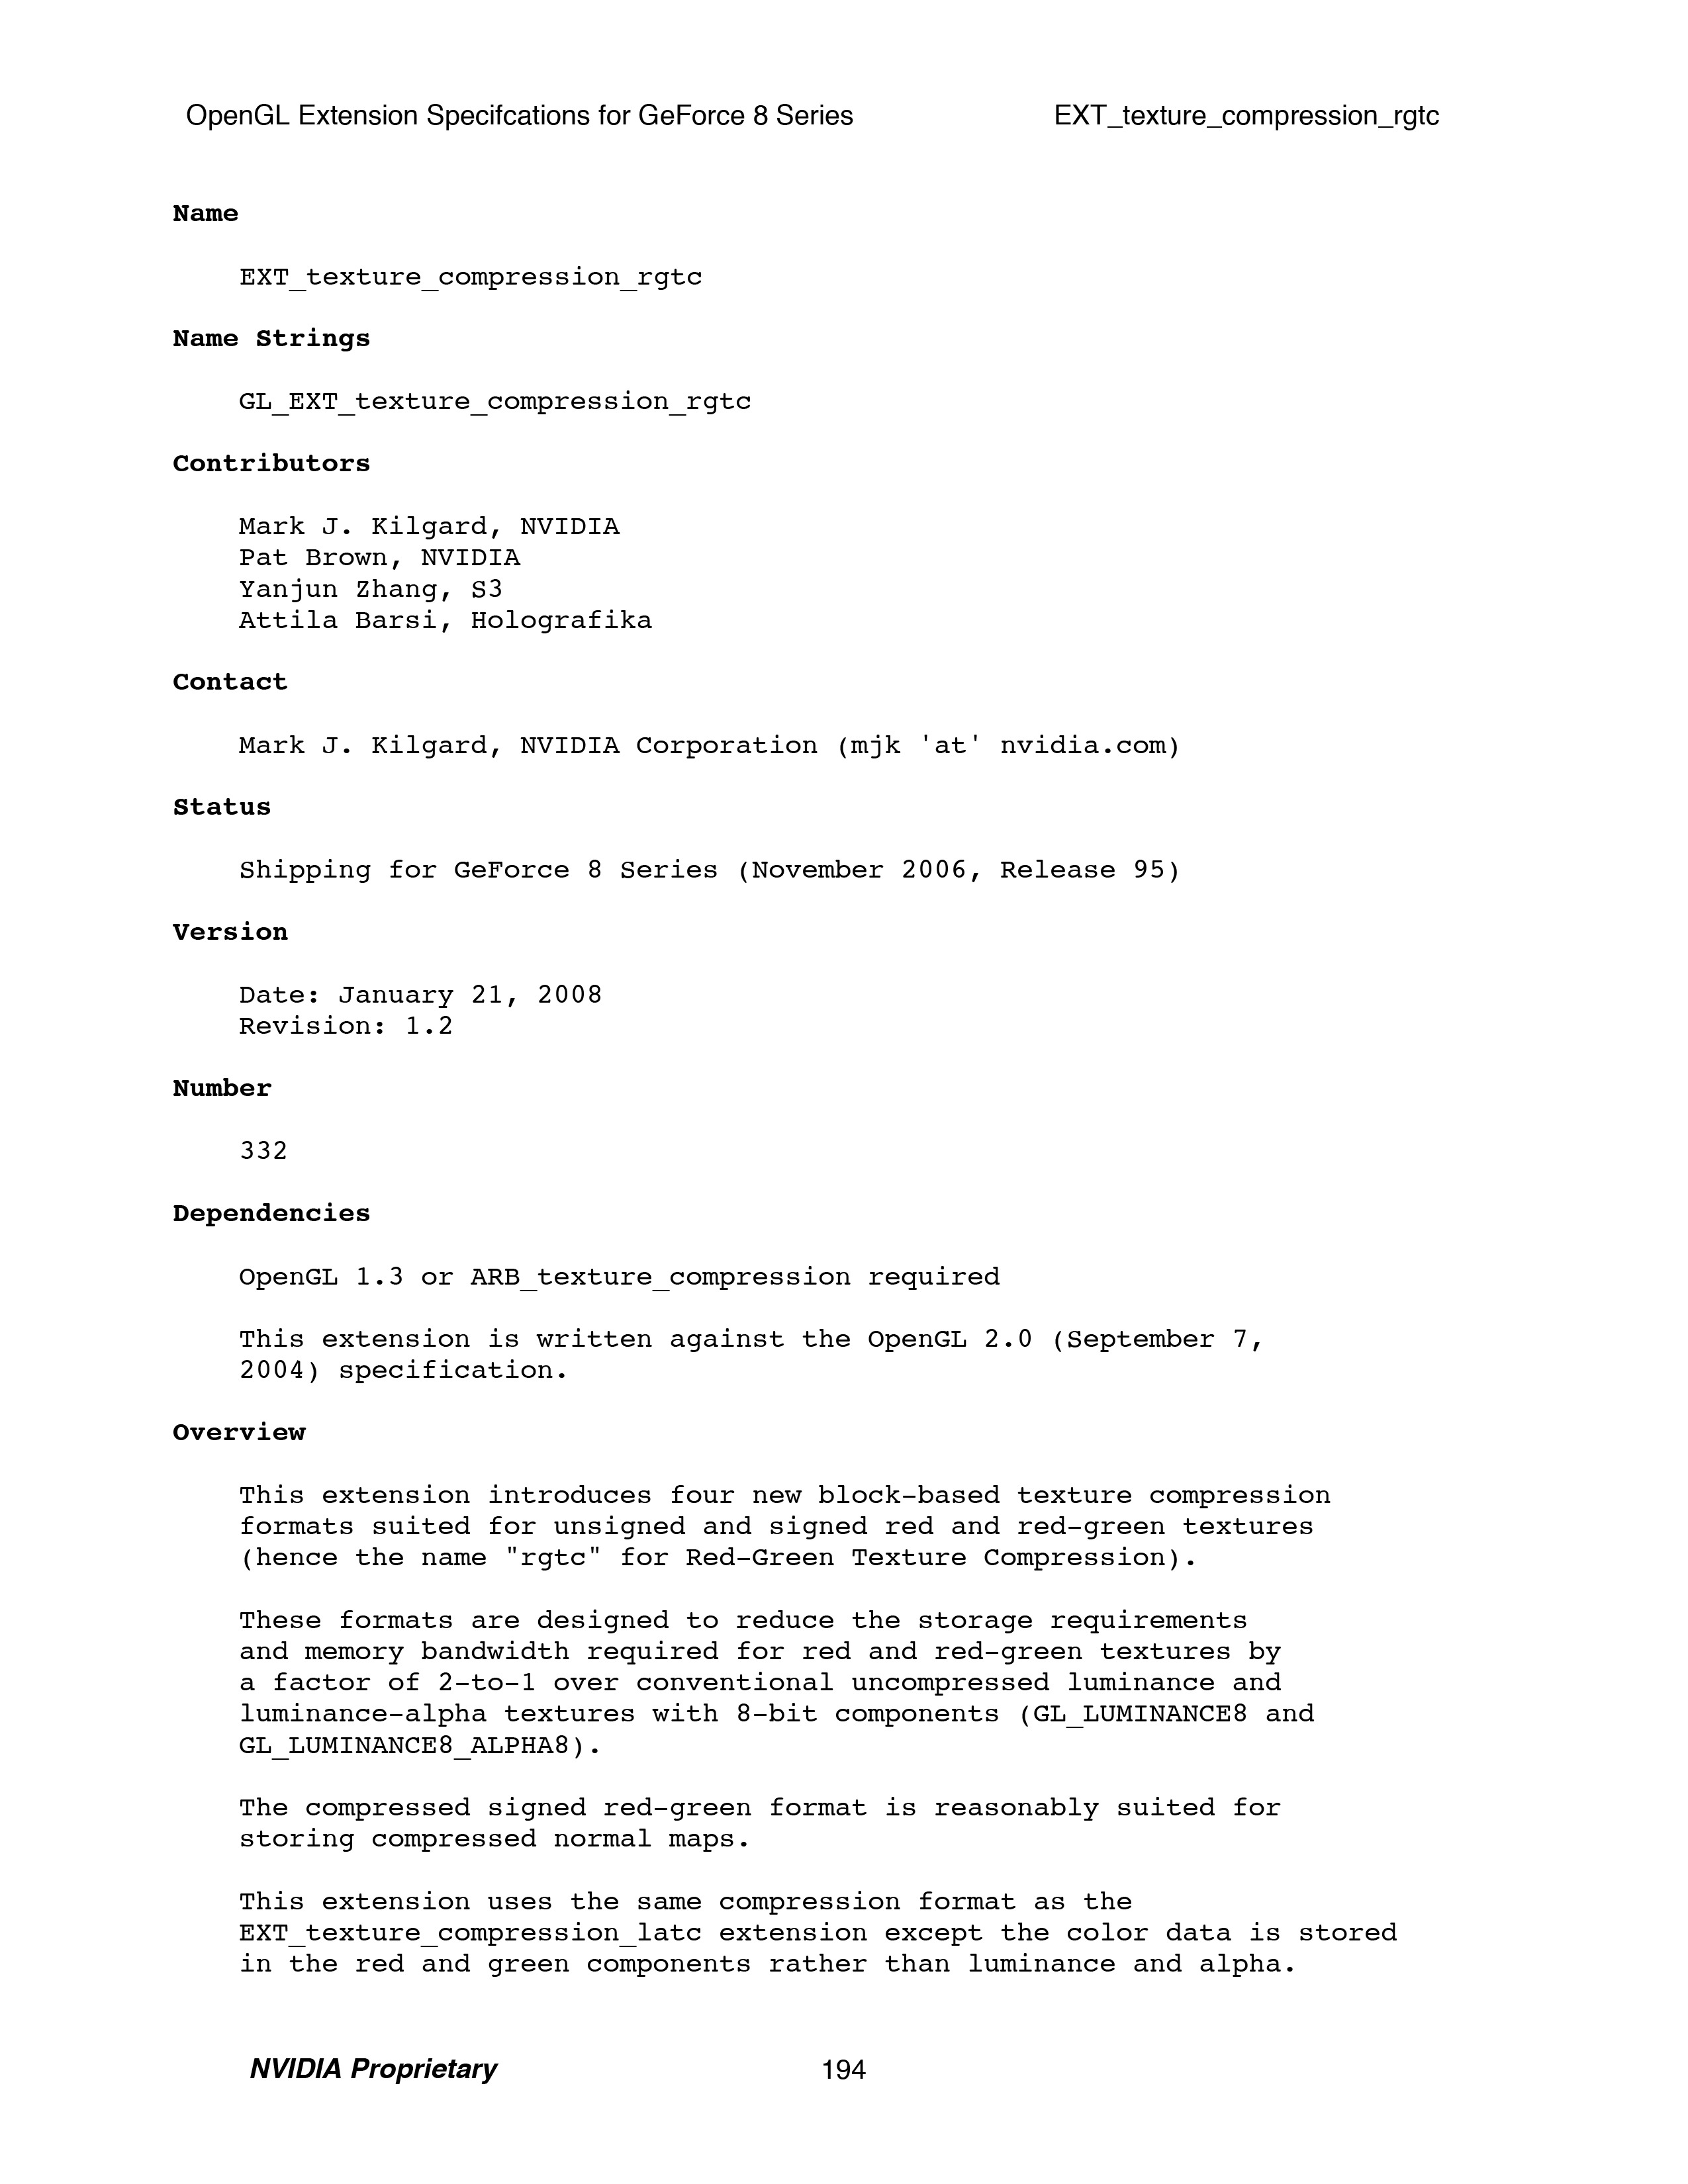section: (160, 440, 417, 496), (152, 1189, 394, 1239), (160, 652, 323, 716), (167, 310, 390, 356), (152, 1406, 323, 1464), (156, 1053, 293, 1119), (167, 909, 314, 959), (156, 778, 293, 823), (160, 183, 259, 230)
text: (231, 1618, 1305, 1767), (236, 1888, 1403, 1978), (239, 1471, 1323, 1567), (227, 1790, 1278, 1868), (243, 1324, 1266, 1388), (220, 507, 679, 636), (239, 838, 1199, 886), (236, 720, 1209, 766), (170, 87, 865, 149), (216, 1244, 1009, 1289), (232, 971, 603, 1039), (220, 255, 713, 303), (236, 386, 762, 420)
